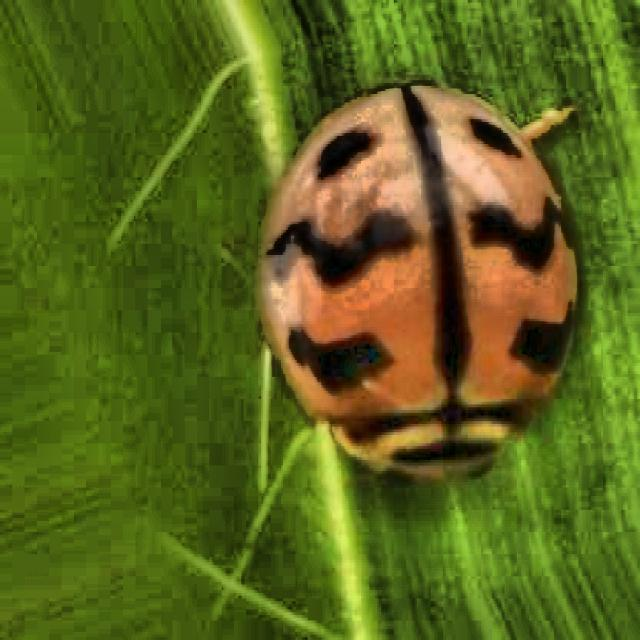Asian-Lady-beetle: (223, 26, 619, 568)
